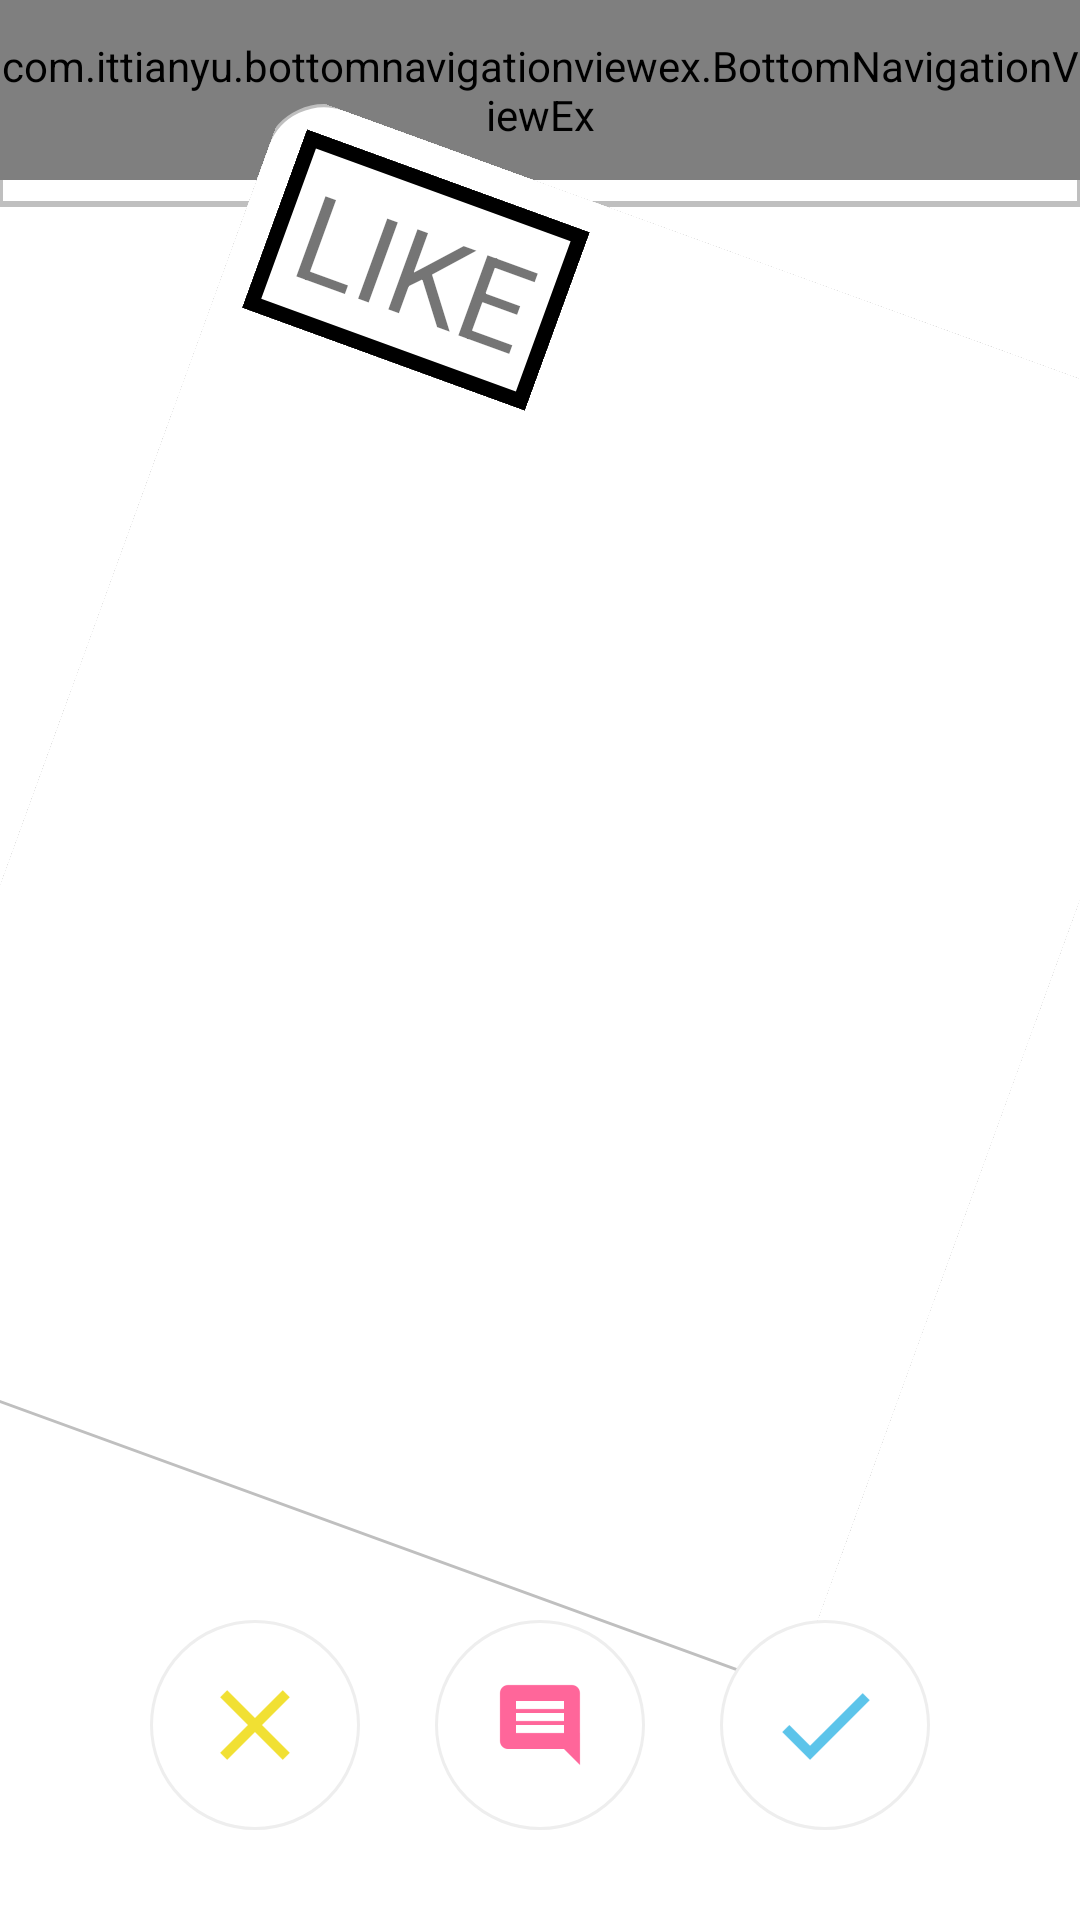

Locate icon controls on the screen. Image size 1080x1920, boxes as (x1, y1, x2, y2).
comment: (500, 1685, 580, 1765)
dislike: (220, 1690, 290, 1760)
like: (782, 1693, 870, 1760)
